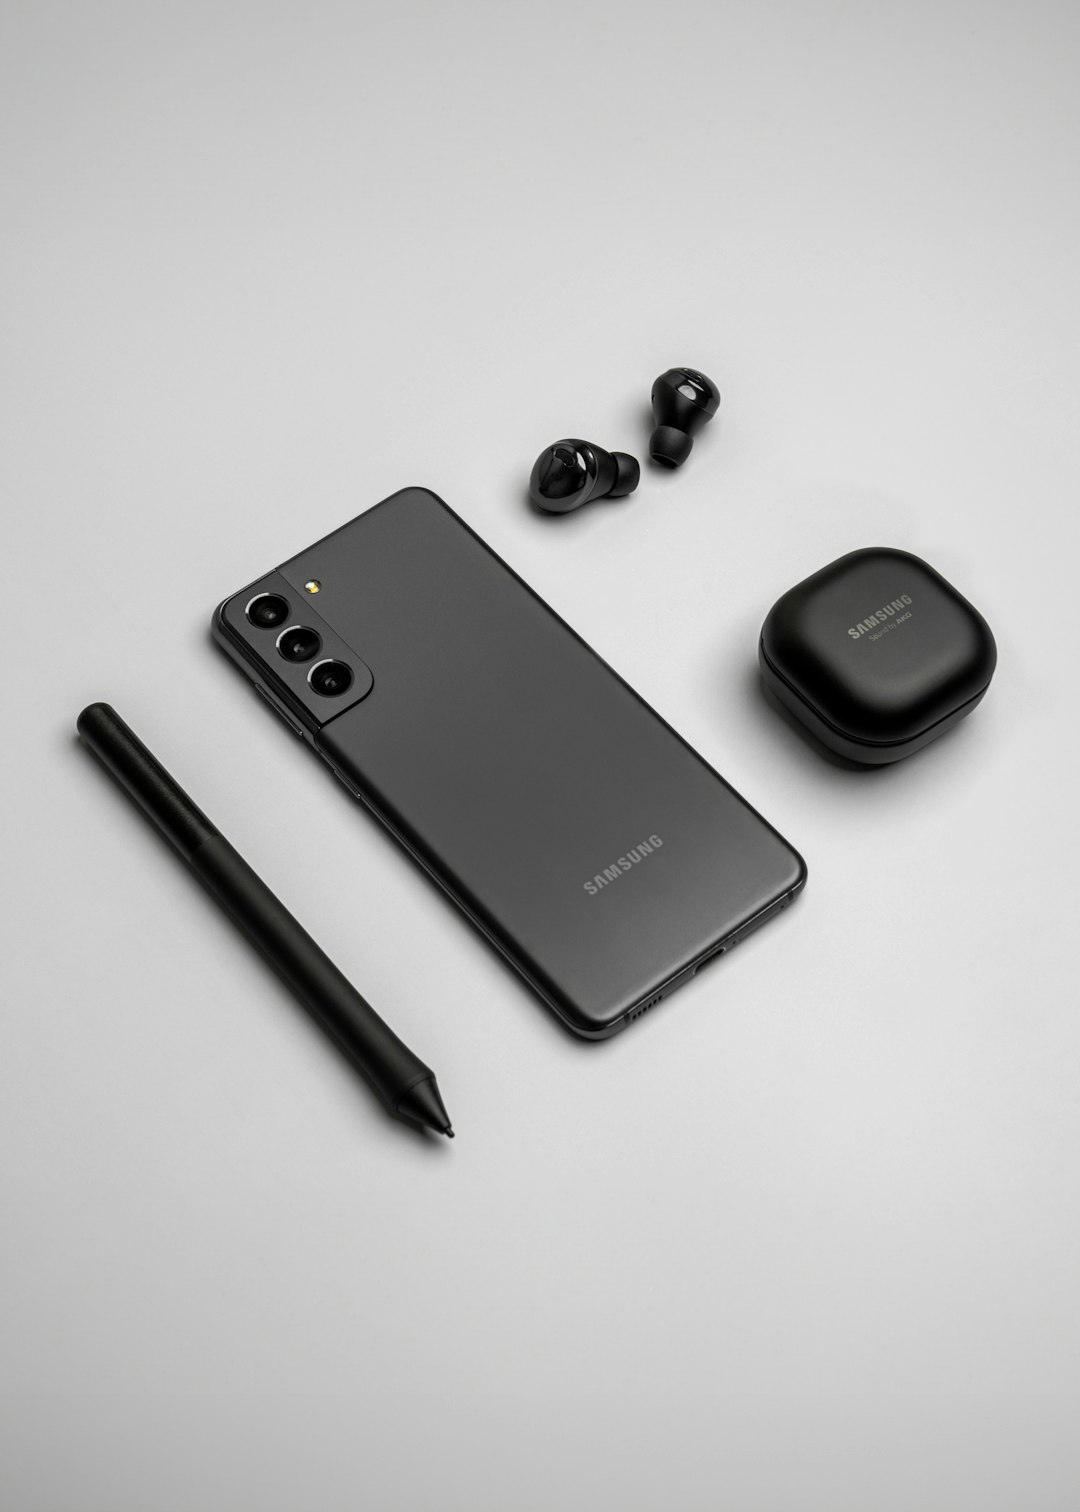phone: (208, 481, 808, 1039)
